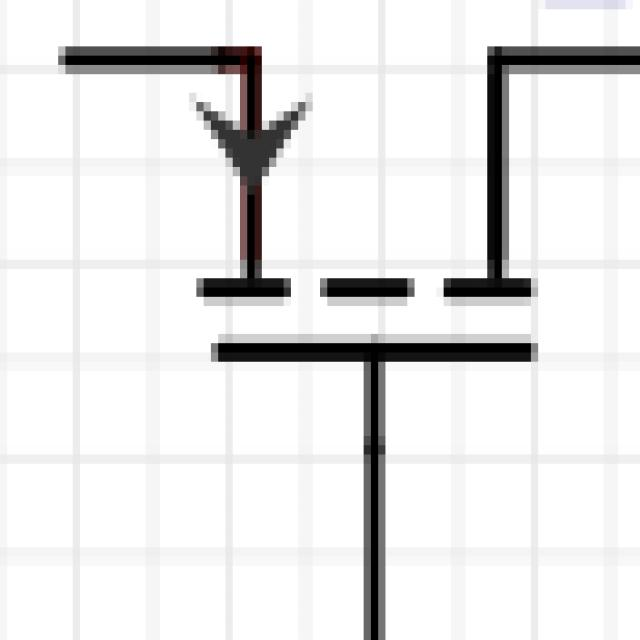pmos: (43, 9, 640, 618)
